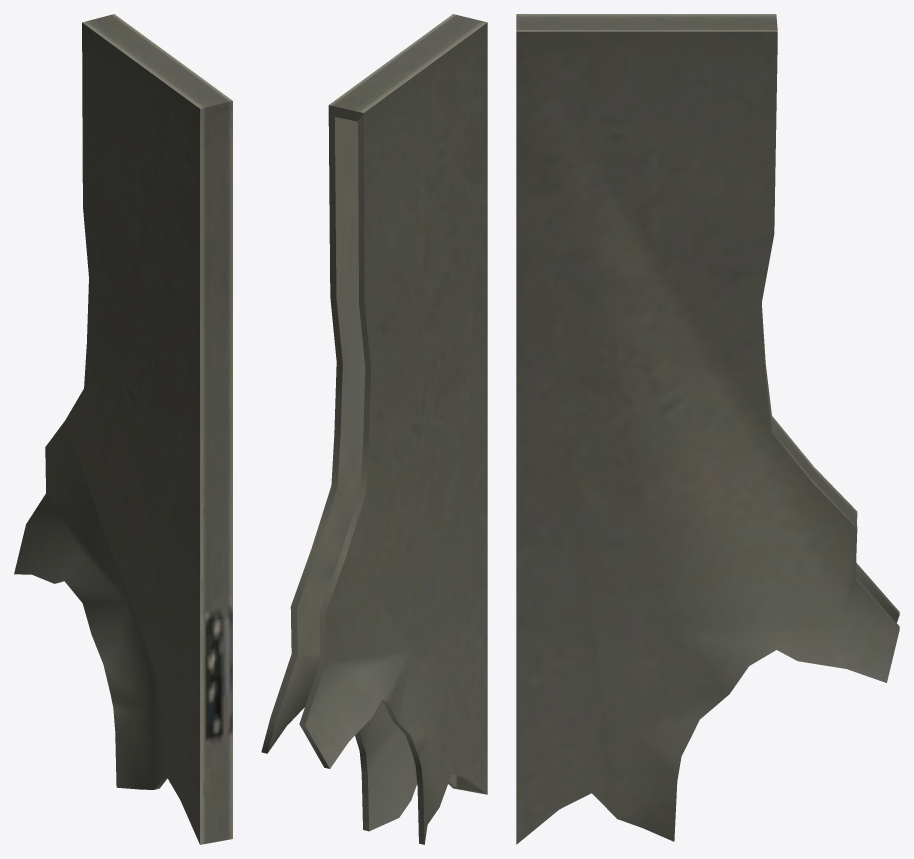
File: doormainmetalsmall01_dm08_f.glb
The picture shows the model from 3 angles, left to right: view 1: azimuth 30°, elevation 25°; view 2: azimuth 150°, elevation 25°; view 3: azimuth 270°, elevation 25°; orthographic projection. The views are drawn at different scales.
Visible parts, largest first — view 1: doormainmetalsmall01_dm08_f; view 2: doormainmetalsmall01_dm08_f; view 3: doormainmetalsmall01_dm08_f.
Boxes of the visible parts, x1,y1,x2,y2 form: doormainmetalsmall01_dm08_f: (14, 14, 232, 844); doormainmetalsmall01_dm08_f: (261, 14, 487, 844); doormainmetalsmall01_dm08_f: (516, 14, 899, 844).
Size of the model in its own units: 0.0761 by 0.8193 by 0.3501.
1 material, 1 textured.
